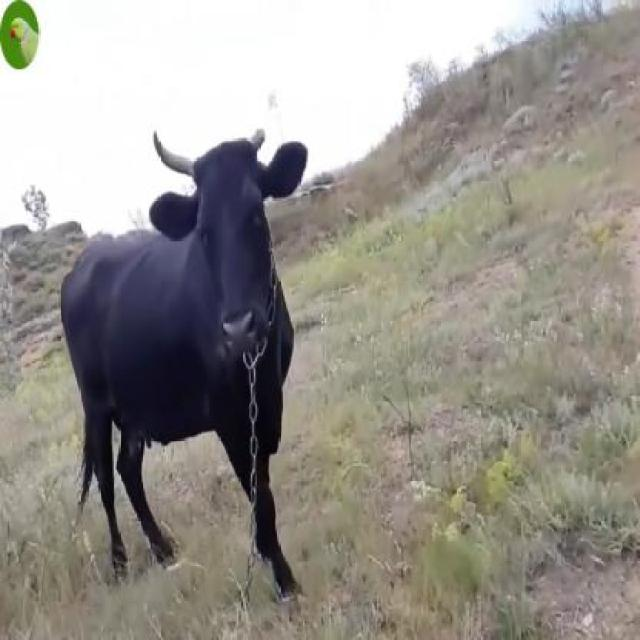Cow: (59, 123, 308, 599)
